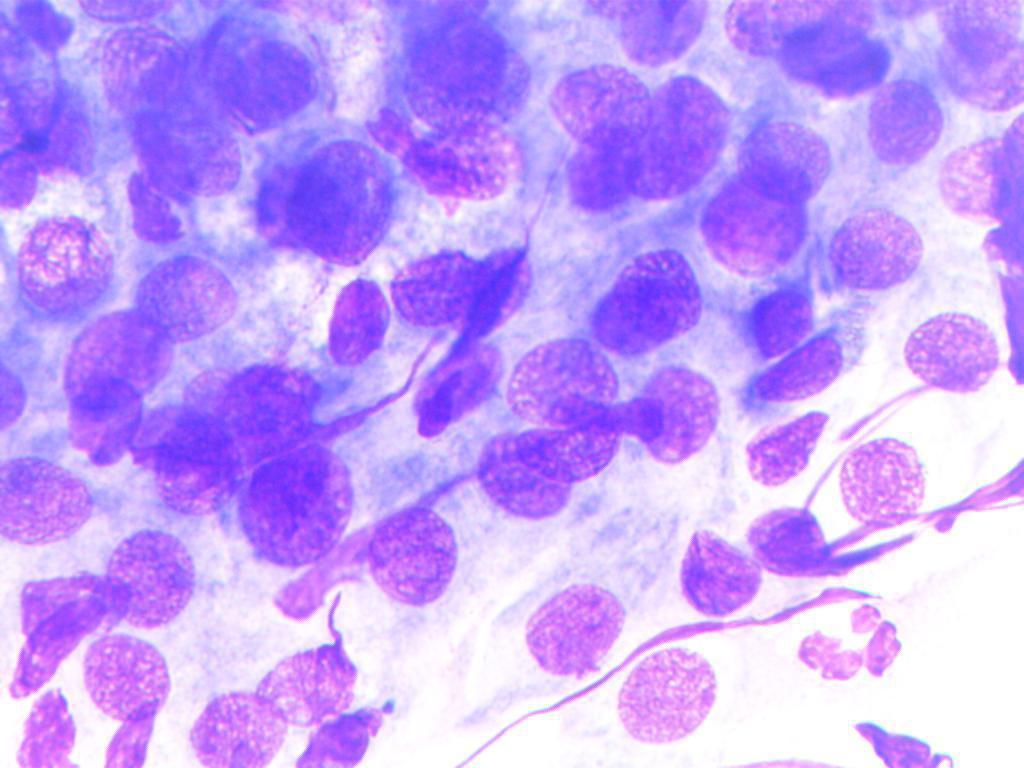artifact: (0, 559, 137, 698), (737, 492, 913, 579), (398, 334, 519, 440), (729, 411, 836, 487), (0, 684, 81, 768)
epithelial: (262, 141, 408, 277), (505, 530, 626, 676), (623, 66, 746, 202), (576, 240, 708, 364), (402, 23, 541, 138), (377, 108, 527, 213), (239, 444, 355, 573), (0, 0, 77, 194), (204, 17, 333, 130), (0, 208, 126, 323), (398, 243, 544, 342), (54, 294, 179, 409), (692, 164, 816, 273), (122, 97, 248, 202), (127, 396, 240, 512), (496, 338, 632, 430), (611, 638, 725, 744), (774, 13, 902, 107), (539, 54, 660, 152), (627, 358, 728, 474), (901, 305, 1004, 418), (97, 520, 204, 625), (829, 422, 929, 530), (254, 634, 369, 726), (723, 0, 890, 63), (929, 0, 1022, 113), (91, 26, 194, 128), (369, 496, 460, 610), (719, 119, 846, 198), (71, 633, 181, 721), (0, 447, 104, 539), (133, 251, 236, 343), (48, 379, 151, 471), (472, 427, 578, 516), (739, 328, 854, 410), (853, 77, 944, 177), (934, 134, 1012, 232), (191, 688, 286, 768), (676, 529, 758, 618), (825, 212, 915, 291), (567, 133, 642, 217), (324, 270, 392, 362), (739, 287, 811, 363)
neutrophil: (796, 603, 922, 681)
